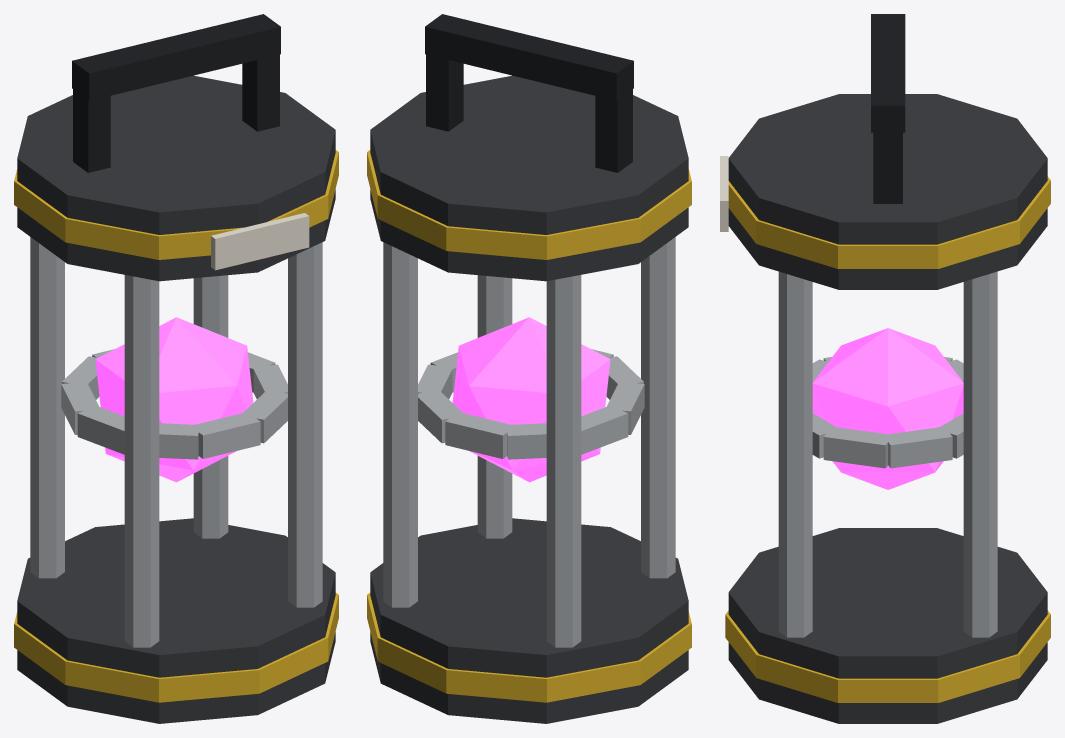
File: antimatter_basic.glb
The picture shows the model from 3 angles, left to right: view 1: azimuth 30°, elevation 25°; view 2: azimuth 150°, elevation 25°; view 3: azimuth 270°, elevation 25°; orthographic projection.
Parts seen in each view (by area): view 1: antimatter_basic; view 2: antimatter_basic; view 3: antimatter_basic.
Part boxes in pixels (x1,y1,x2,y2): antimatter_basic: (14,14,338,723); antimatter_basic: (367,14,691,723); antimatter_basic: (720,14,1050,723).
Size of the model in its own units: 0.1455 by 0.311 by 0.1555.
